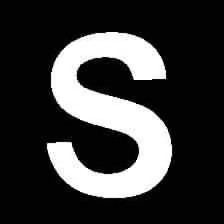LTR_S: (36, 23, 181, 204)
